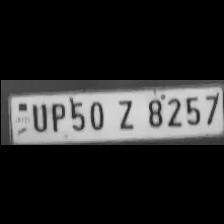0: (85, 96, 107, 130)
2: (164, 94, 182, 128)
5: (66, 97, 86, 130), (182, 92, 200, 125)
7: (201, 92, 219, 124)
8: (140, 96, 164, 128)
P: (46, 98, 64, 132)
U: (28, 99, 48, 130)
Z: (110, 96, 136, 130)
